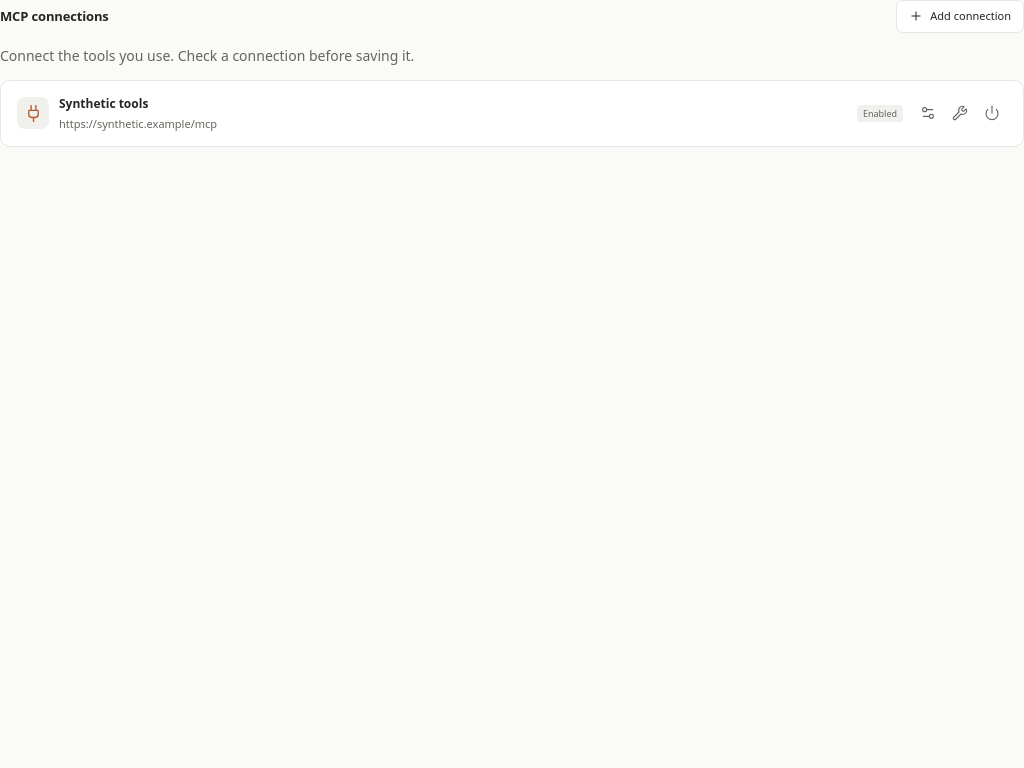
authoritative MCP tool permissions › keeps failed selections across close/reopen and does not re-enable an unchosen tool on the next save
This screenshot has width=1024, height=768.
Click the button named "Tools for Synthetic tools" at (960,113), box 945,98 -> 975,128
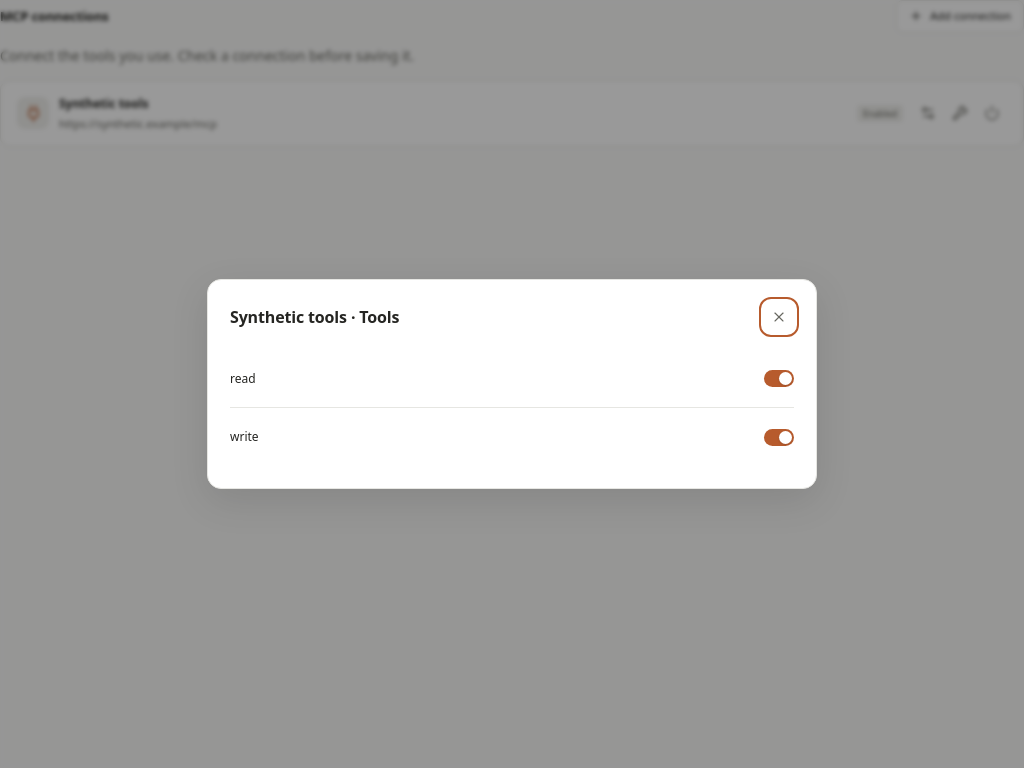
Now the switch named "write" is shown
Click the switch named "write" at (779,437), box 764,428 -> 794,446
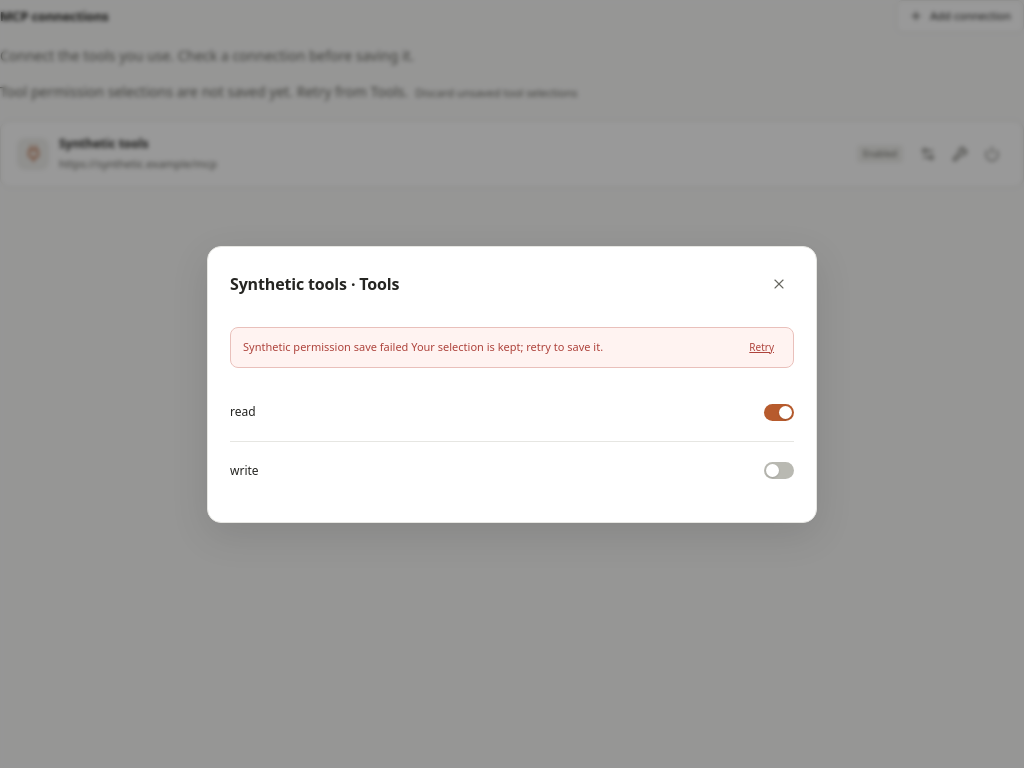
Now the message is shown, box 230,326 -> 794,368
Click the button named "Close dialog" at (779,284), box 764,268 -> 794,298
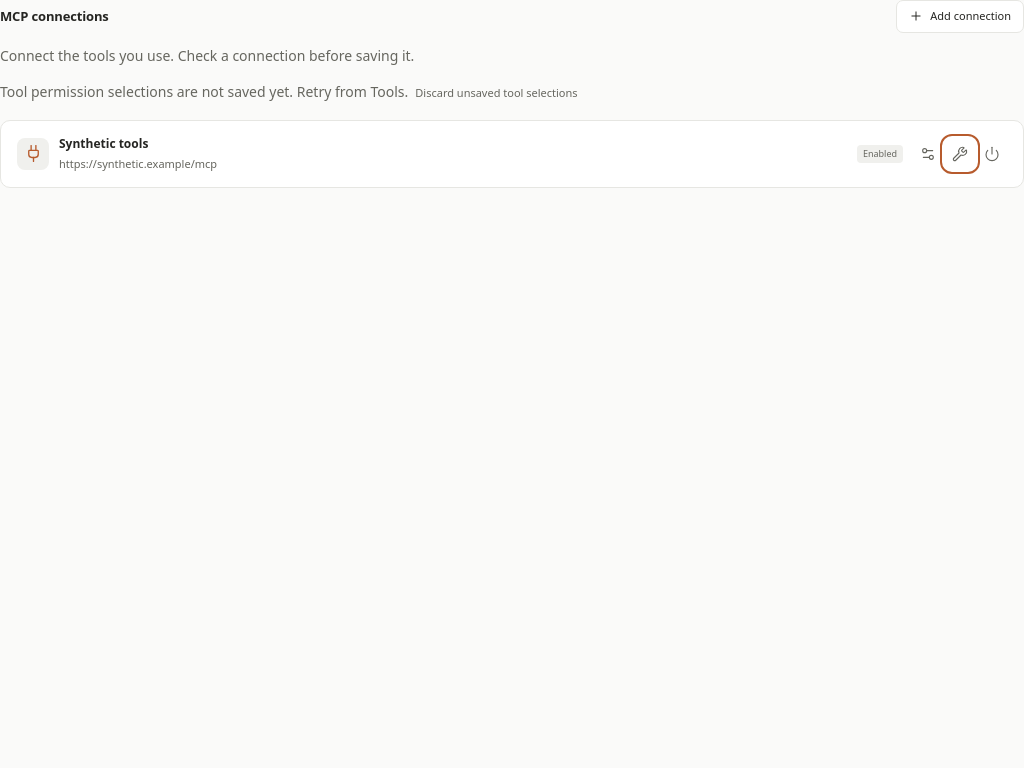
Click the button named "Tools for Synthetic tools" at (960,154), box 945,139 -> 975,169
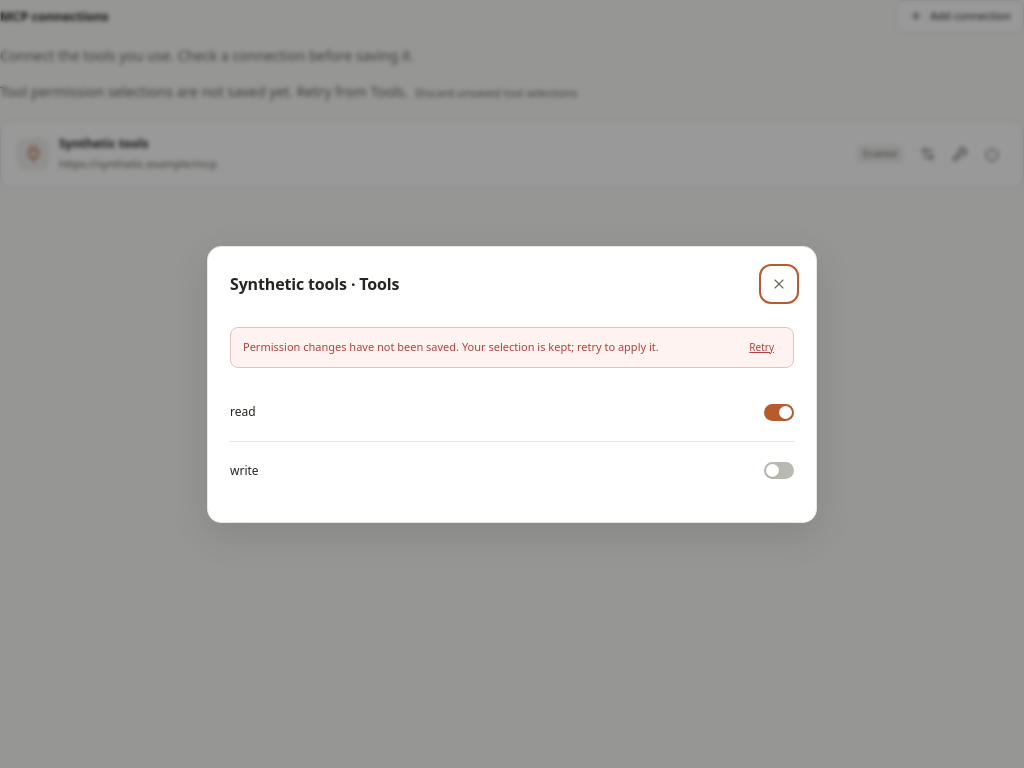
Now the message shows "not been saved", box 243,338 -> 659,354
Click the switch named "read" at (779,412), box 764,404 -> 794,420
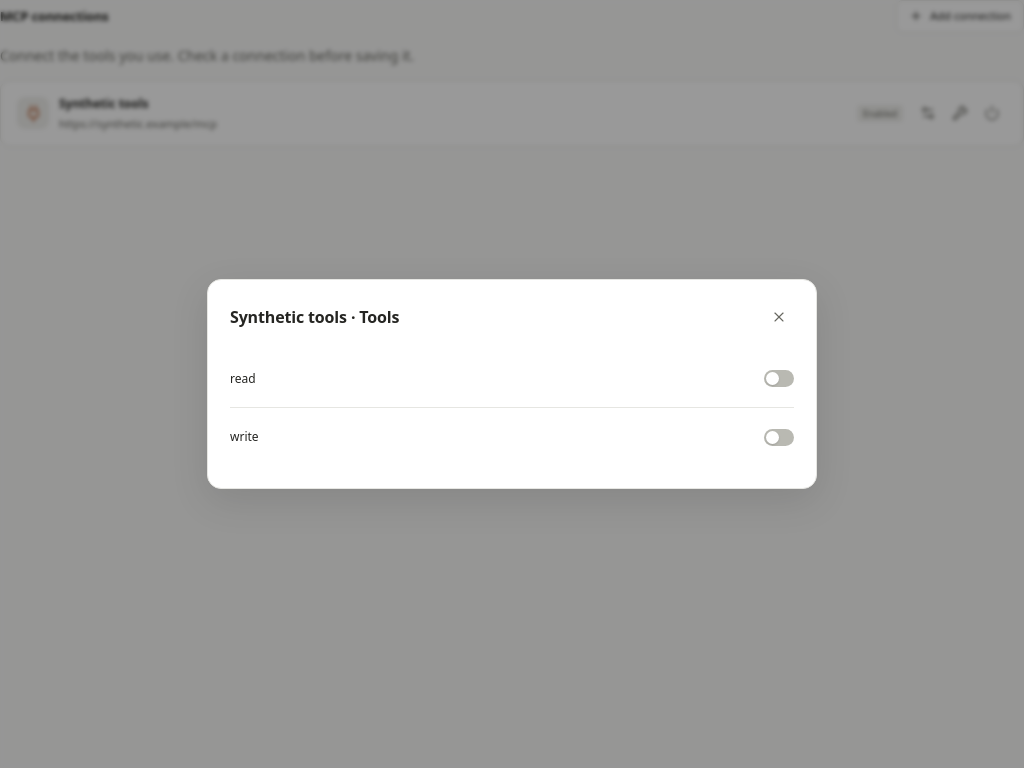
Now the message is gone
